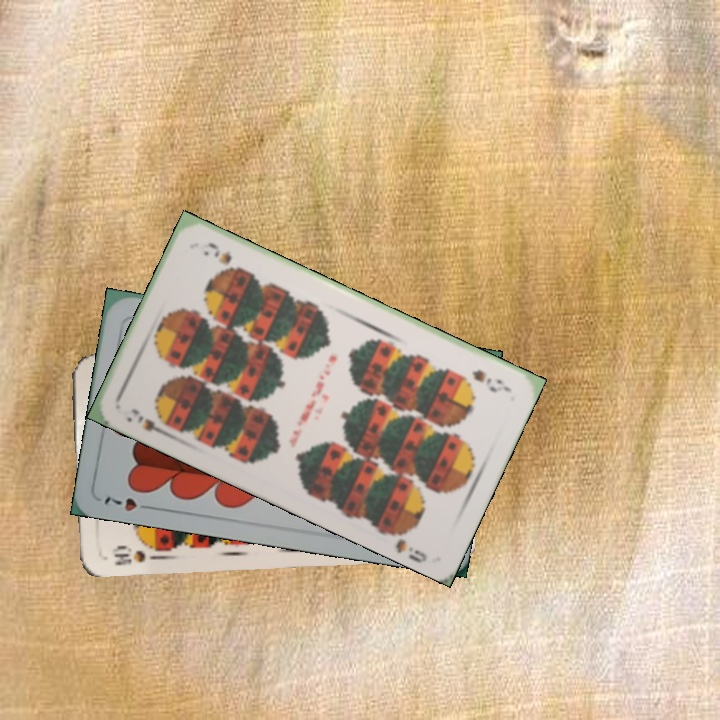H7: (100, 492, 157, 514)
S10: (108, 542, 161, 568)
S9: (127, 404, 175, 440), (468, 365, 513, 395)
